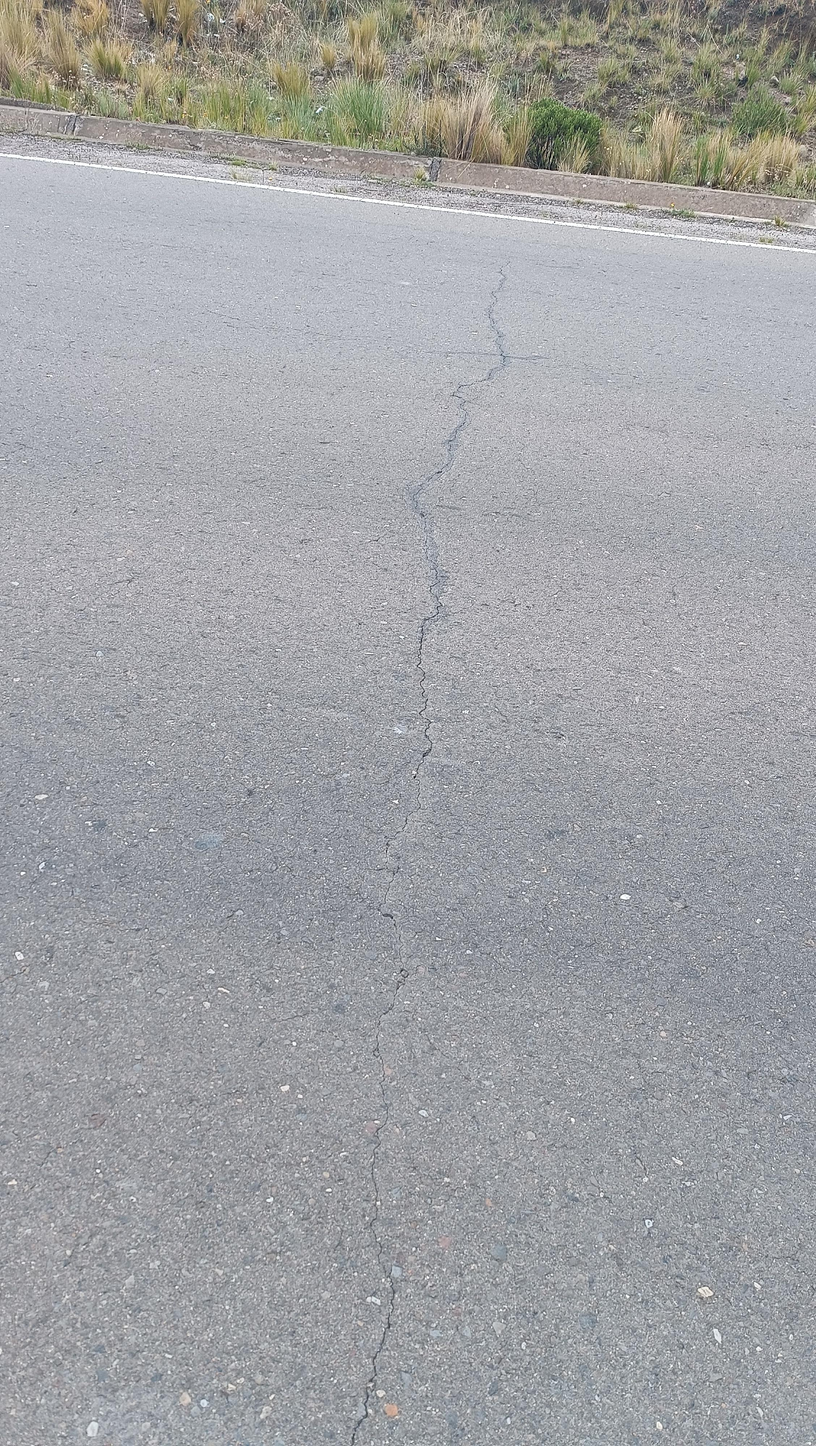GRIETA: (351, 1279, 395, 1444), (415, 581, 443, 694), (426, 421, 466, 483), (412, 487, 438, 579), (371, 1056, 389, 1179), (375, 983, 404, 1055), (457, 352, 506, 393), (413, 698, 433, 792), (487, 265, 506, 351), (394, 792, 421, 837), (369, 1181, 383, 1264)
